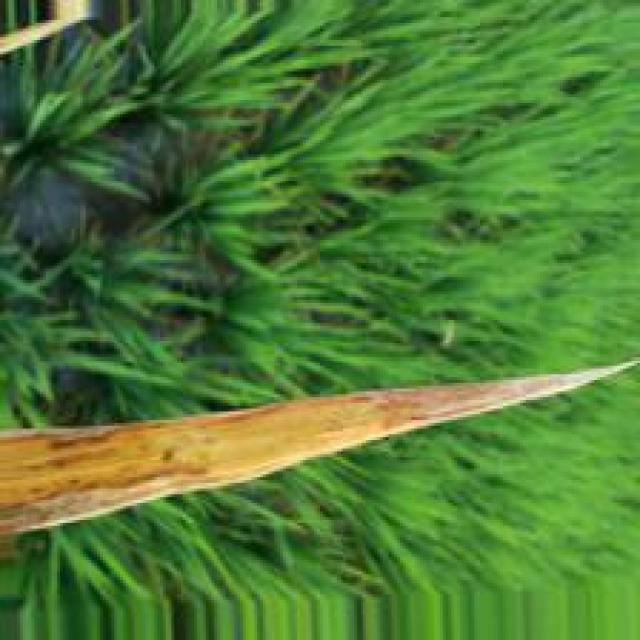Bacterial_Leaf_Blight: (2, 378, 540, 533)
